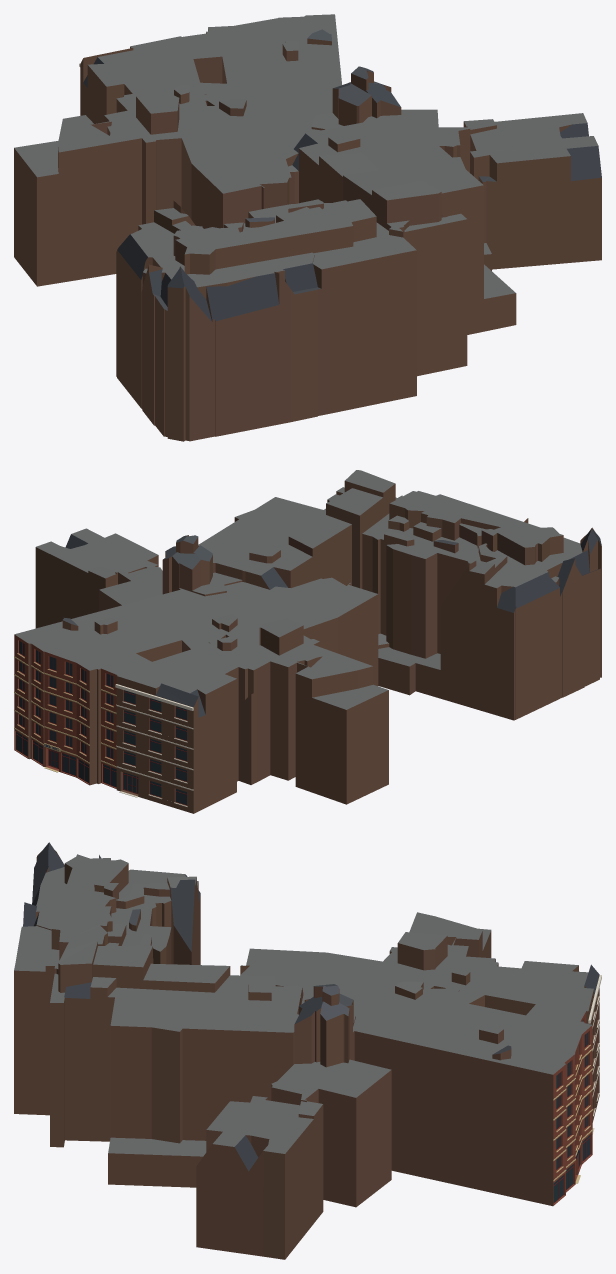
Rendered from recipe-large-amstel-142-186290.glb.
3 views of the same model, one above another, from view 1: azimuth 30°, elevation 25°; view 2: azimuth 150°, elevation 25°; view 3: azimuth 270°, elevation 25° (orthographic). The views are drawn at different scales.
Visible parts, largest first — view 1: amstel-142-186290; view 2: amstel-142-186290; view 3: amstel-142-186290.
Boxes of the visible parts, box(x1,y1,x2,y2) form: amstel-142-186290: box(14, 14, 601, 441); amstel-142-186290: box(14, 470, 601, 813); amstel-142-186290: box(14, 842, 601, 1259).
Size of the model in its own units: 73.8 by 24.18 by 71.39.
